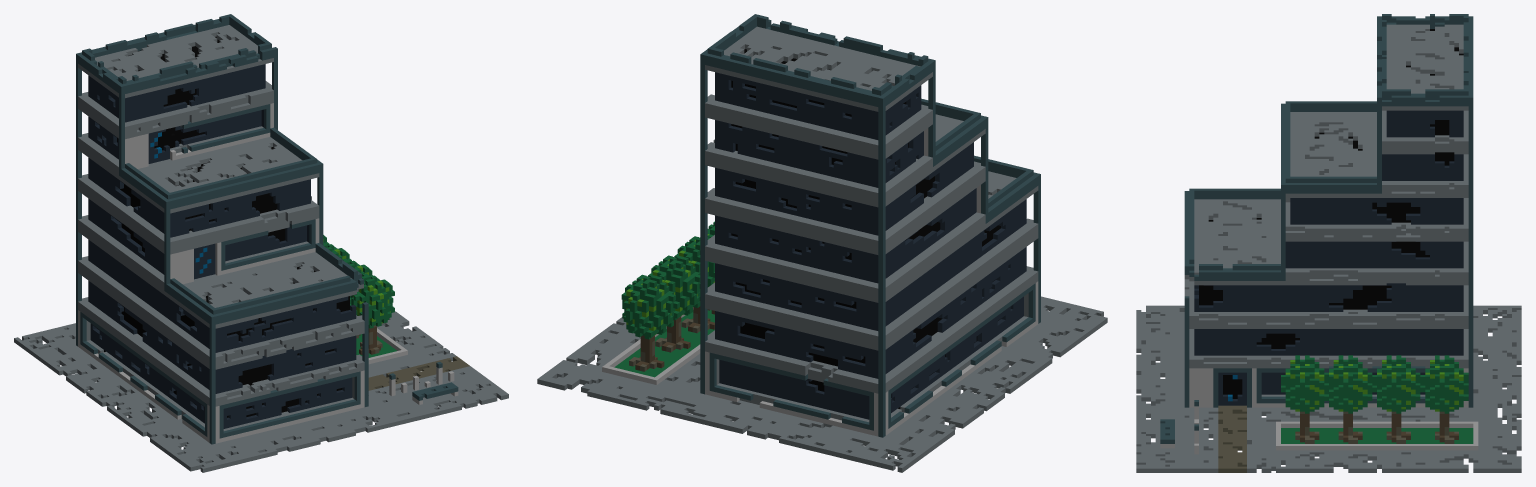
The model's file is building_big_4_damaged.obj.
3 renders of one model, left to right at view 1: azimuth 30°, elevation 25°; view 2: azimuth 150°, elevation 25°; view 3: azimuth 270°, elevation 25°, orthographic. The views are drawn at different scales.
Bounding box in the file's own units: 8 × 7.3 × 8.
Materials: 1 (1 with a texture image).
